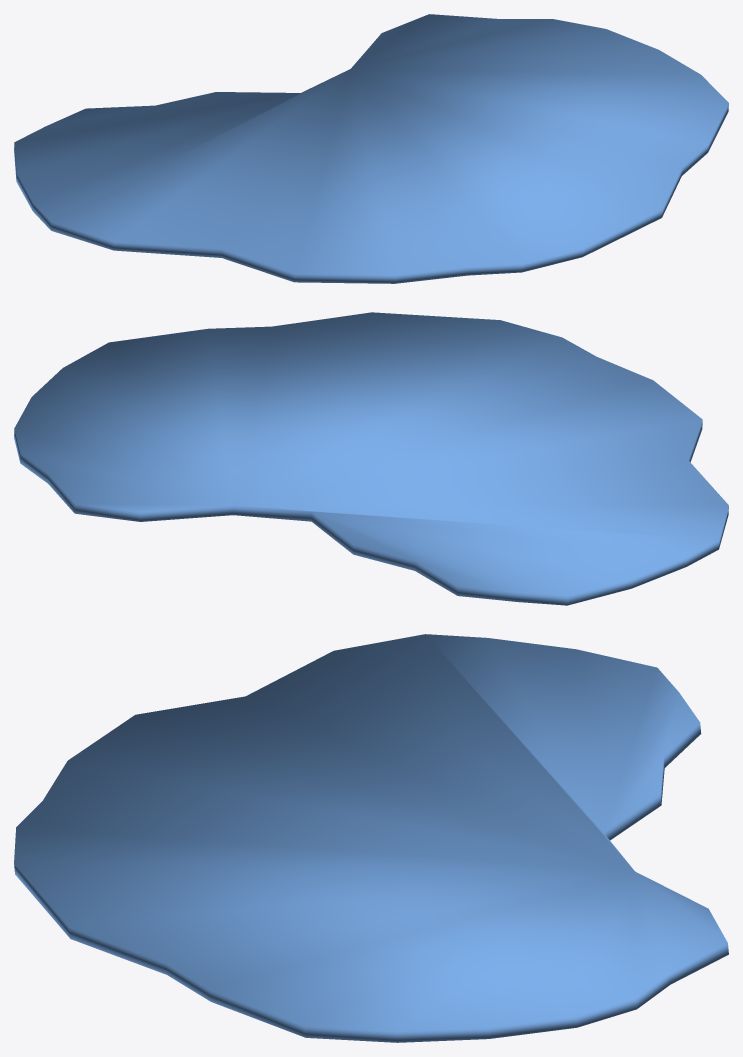
Rendered from puddle2.fbx.
The picture shows the model from 3 angles, top to bottom: view 1: azimuth 30°, elevation 25°; view 2: azimuth 150°, elevation 25°; view 3: azimuth 270°, elevation 25°; orthographic projection. The views are drawn at different scales.
Parts seen in each view (by area): view 1: Circle; view 2: Circle; view 3: Circle.
Part boxes in pixels (x1,y1,x2,y2): Circle: [14, 14, 728, 283]; Circle: [14, 312, 728, 605]; Circle: [14, 634, 728, 1042].
Bounding box in the file's own units: 565 × 8.94 × 430.
